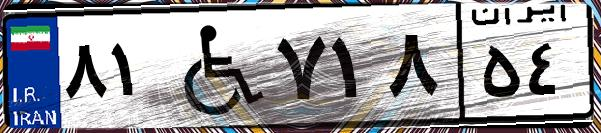1: (330, 28, 385, 110), (110, 28, 158, 98)
4: (525, 38, 570, 115)
5: (475, 38, 525, 113)
7: (270, 28, 330, 110)
8: (385, 28, 445, 110), (57, 26, 110, 100)
ژ (معلولین و جانبازان): (158, 12, 270, 120)
